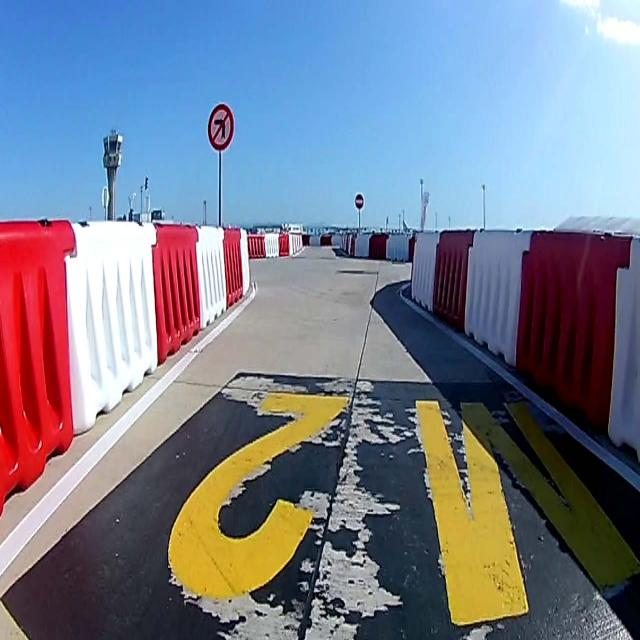girisyok: (354, 194, 364, 210)
soladonulmez: (208, 104, 235, 150)
